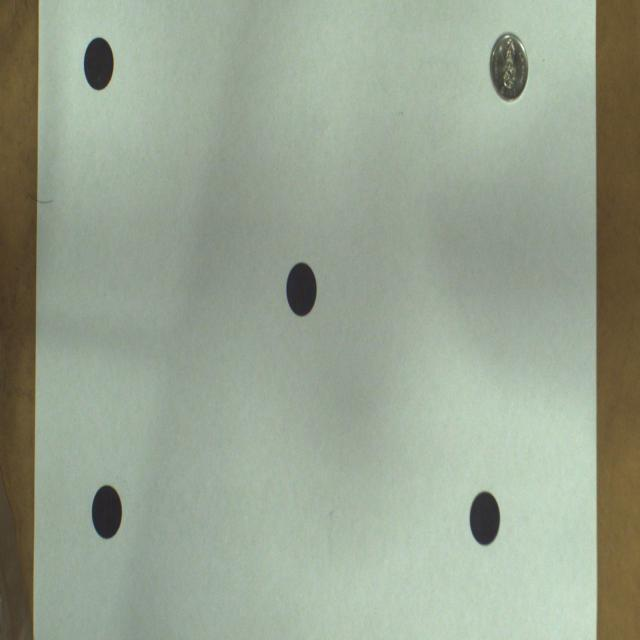space: (92, 484, 122, 538), (286, 262, 316, 316), (84, 38, 114, 91), (470, 491, 500, 544)
tail1bath: (490, 33, 528, 100)
